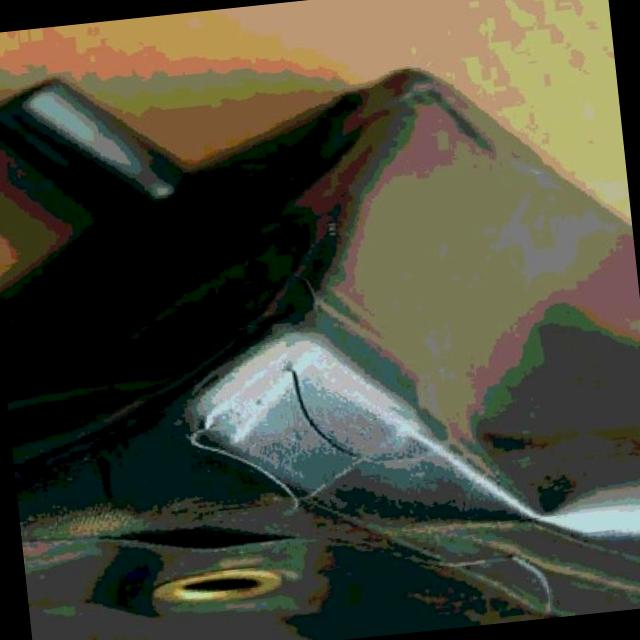crack: (271, 356, 344, 490)
